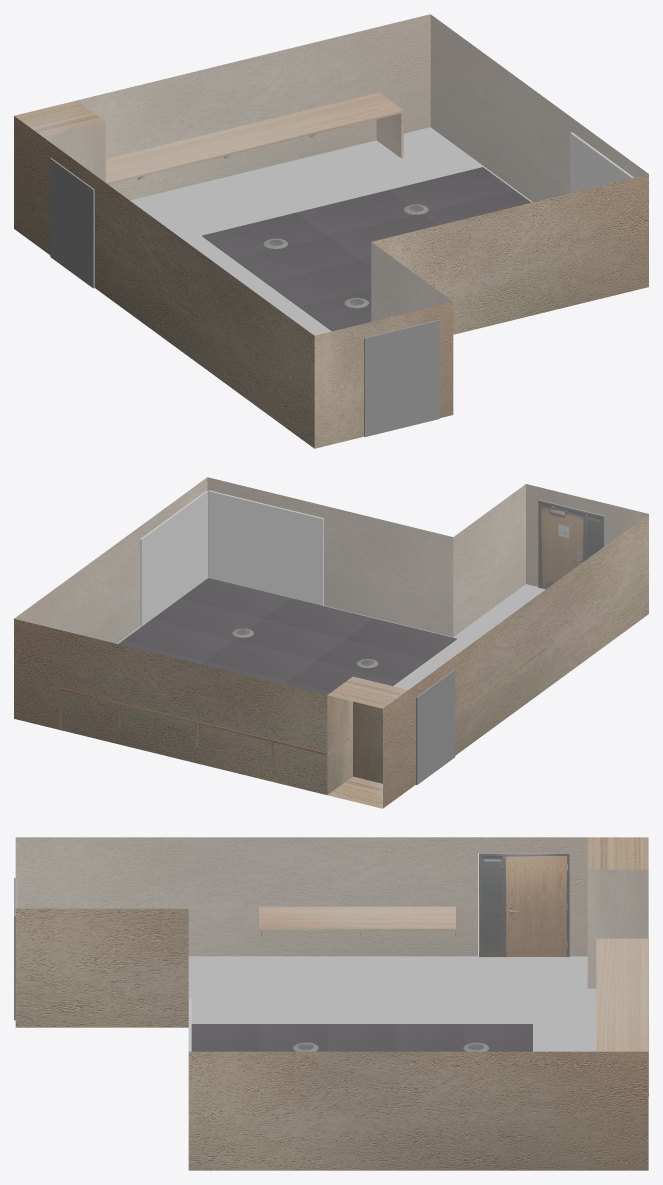
The model's file is Viper_Lab.fbx.
3 renders of one model, top to bottom at view 1: azimuth 30°, elevation 25°; view 2: azimuth 150°, elevation 25°; view 3: azimuth 270°, elevation 25°, orthographic. The views are drawn at different scales.
Parts seen in each view (by area): view 1: polySurface90; view 2: polySurface90; view 3: polySurface90.
Boxes of the visible parts, x1=… form: polySurface90: x1=14, y1=14, x2=648, y2=448; polySurface90: x1=14, y1=477, x2=648, y2=808; polySurface90: x1=14, y1=837, x2=648, y2=1170.
Bounding box in the file's own units: 38.7 × 10.03 × 48.36.
